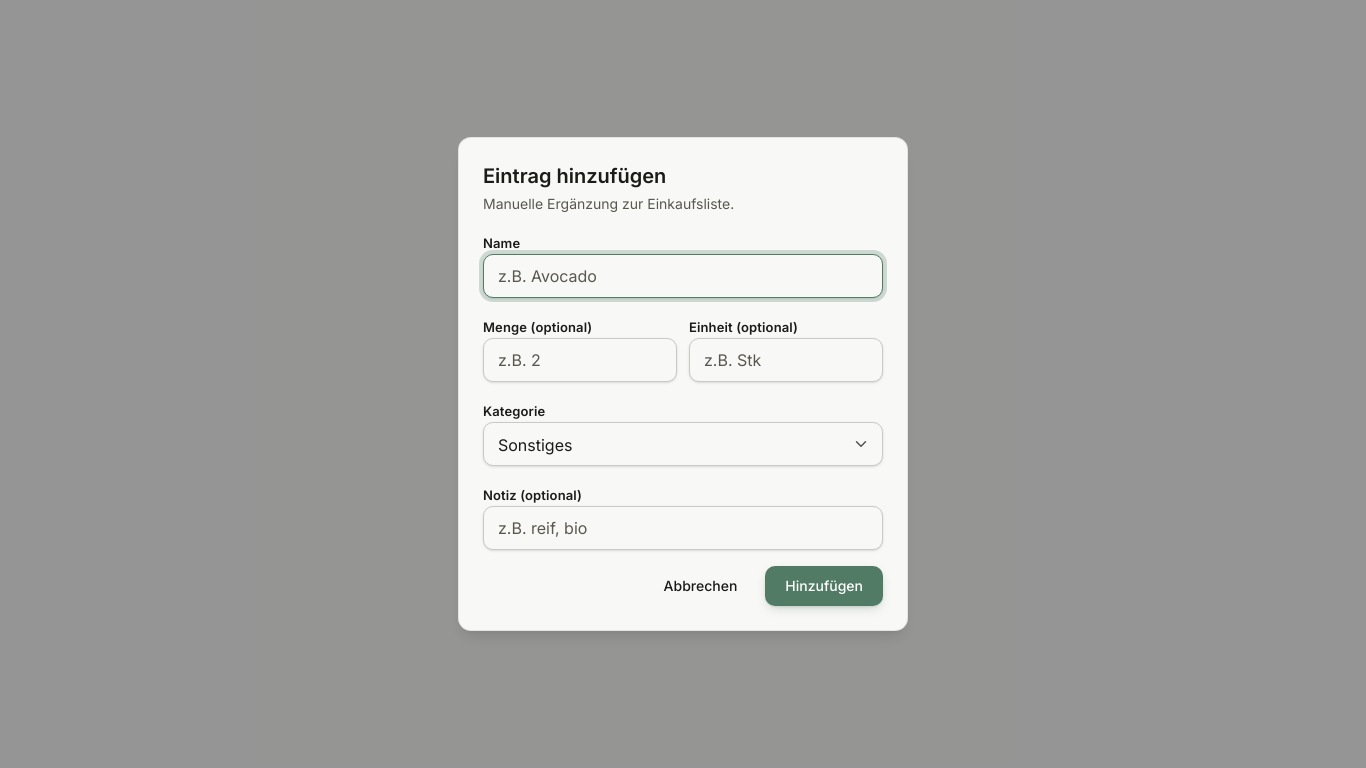
Test: <AddItemDialog /> › shows the localised errors:<code> copy on server failure
Type "Salz" into the field labelled "Name" at (683, 276), box [483, 254, 883, 298]
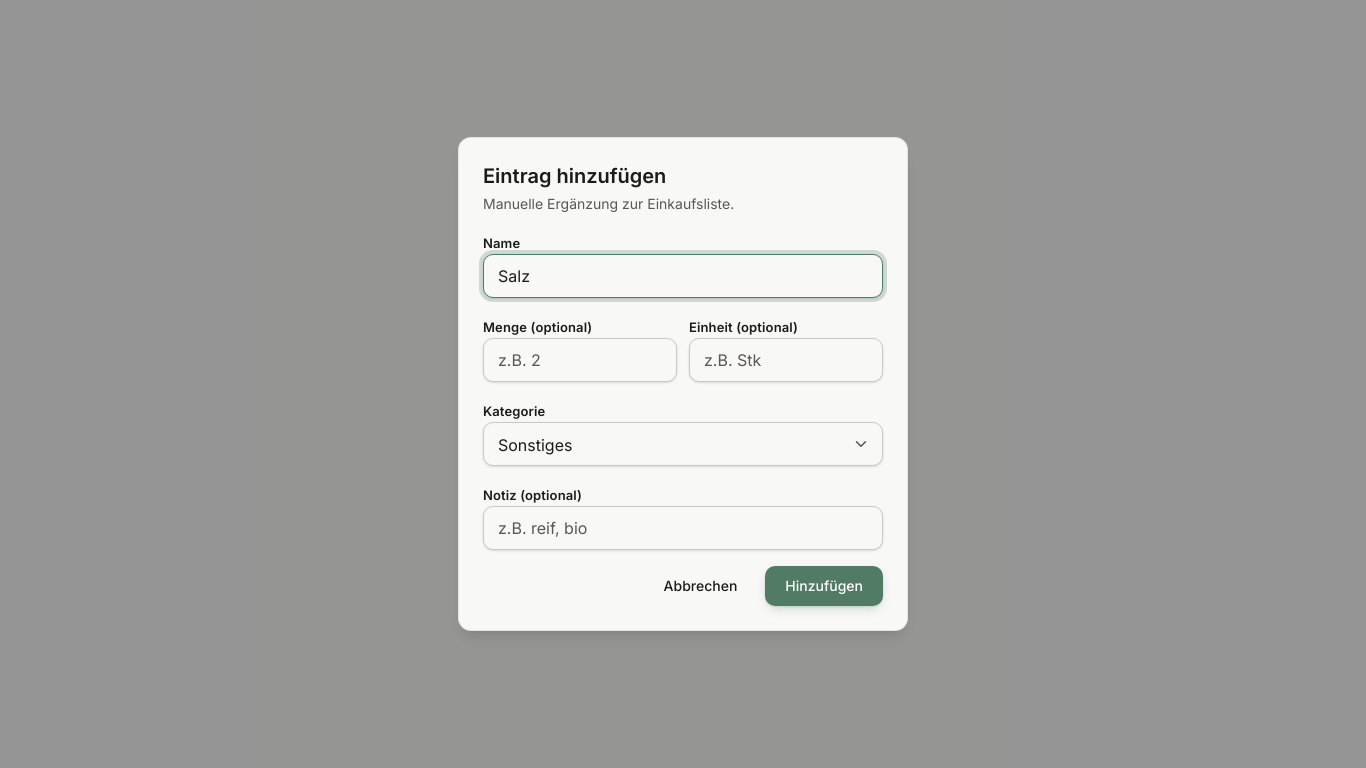
Click the button "Hinzufügen" at (824, 586), box [765, 566, 883, 606]
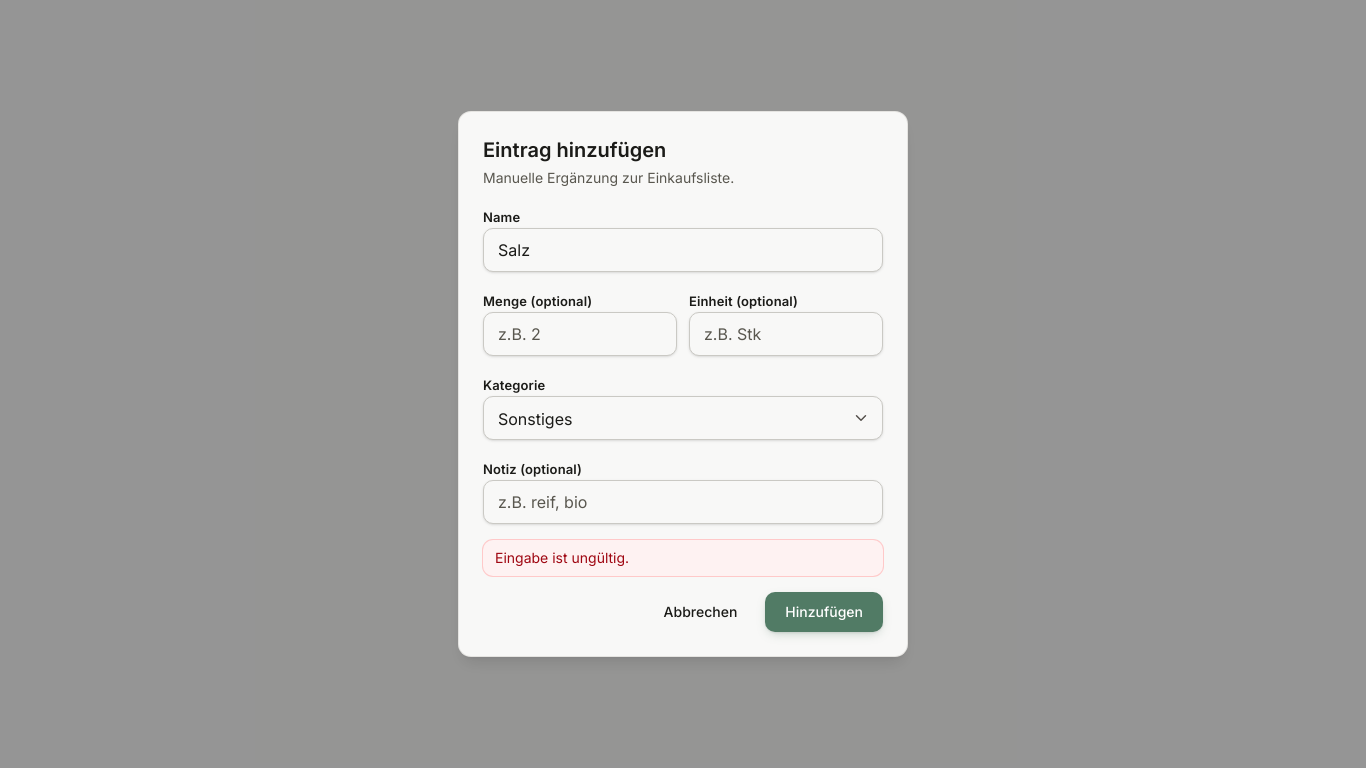
Expected: the message does not show "Name too long", [483, 540, 883, 576]
Now the message reads "Eingabe ist ungültig.", box [495, 549, 629, 566]
